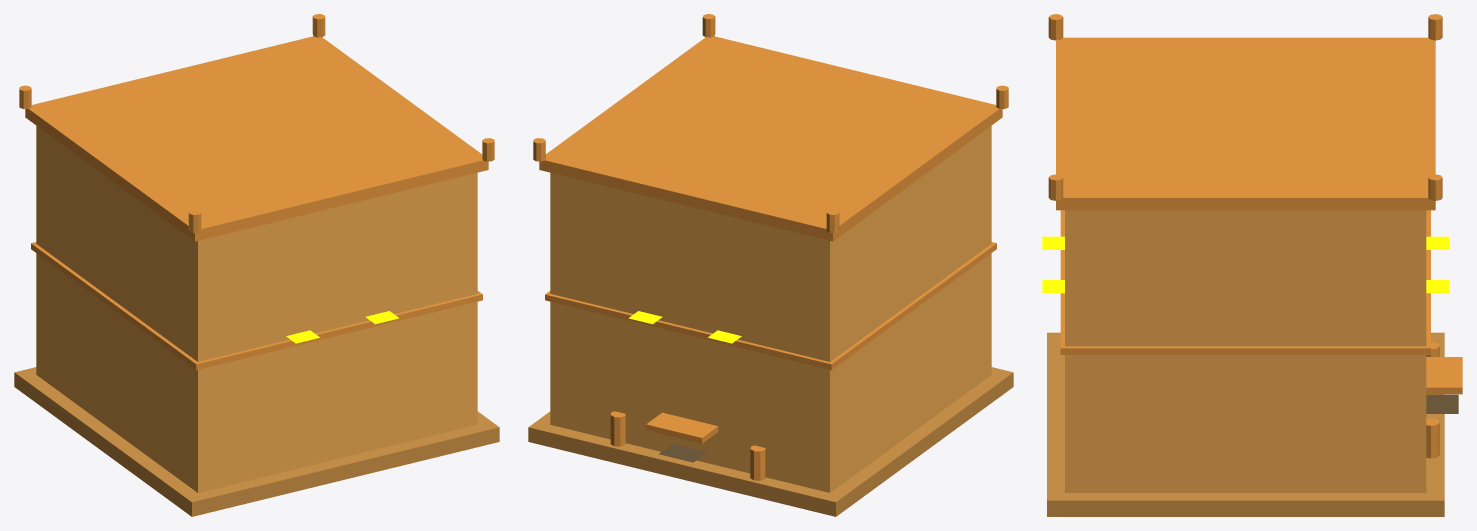
The model's file is school.glb.
The picture shows the model from 3 angles, left to right: view 1: azimuth 30°, elevation 25°; view 2: azimuth 150°, elevation 25°; view 3: azimuth 270°, elevation 25°; orthographic projection. The views are drawn at different scales.
Parts seen in each view (by area): view 1: school; view 2: school; view 3: school.
Boxes of the visible parts, box(x1,y1,x2,y2) form: school: box(14, 14, 499, 516); school: box(528, 14, 1013, 516); school: box(1042, 14, 1462, 516).
Bounding box in the file's own units: 4.4 × 4.1 × 4.65.
